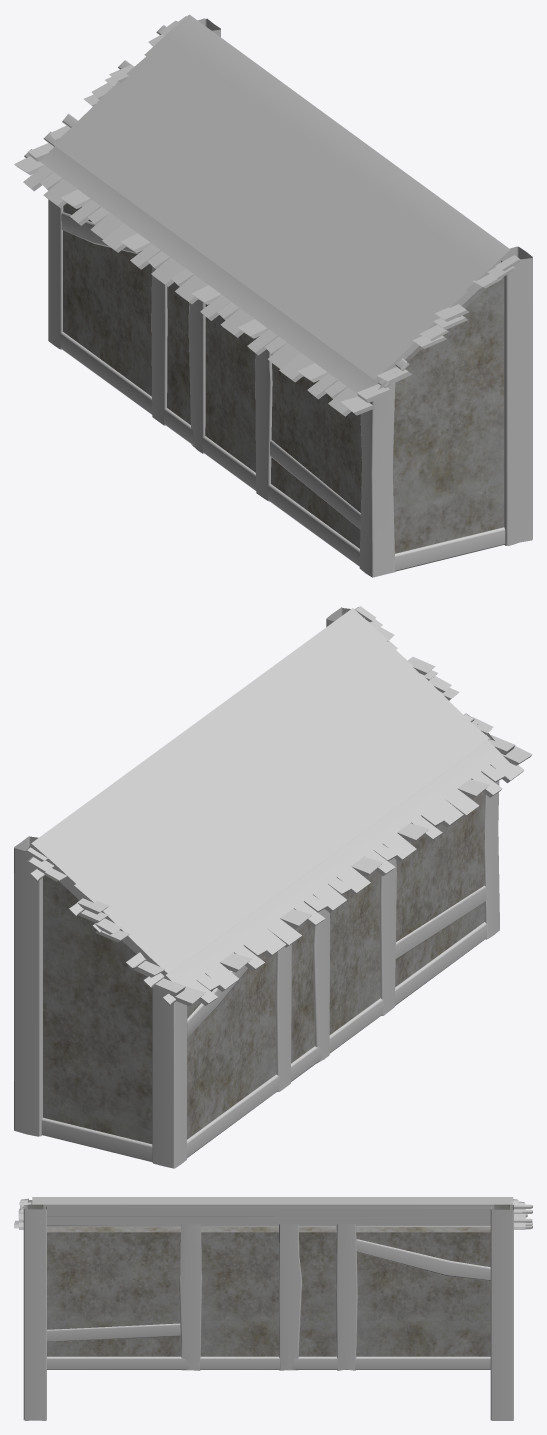
File: SM_RoofExtension01.fbx
3 views of the same model, one above another, from view 1: azimuth 30°, elevation 25°; view 2: azimuth 150°, elevation 25°; view 3: azimuth 270°, elevation 25° (orthographic). The views are drawn at different scales.
Parts seen in each view (by area): view 1: SM_RoofExtension01_LOD0; view 2: SM_RoofExtension01_LOD0; view 3: SM_RoofExtension01_LOD0.
Boxes of the visible parts, left/top/right/bottom form: SM_RoofExtension01_LOD0: left=14, top=14, right=532, bottom=577; SM_RoofExtension01_LOD0: left=14, top=606, right=532, bottom=1168; SM_RoofExtension01_LOD0: left=14, top=1197, right=532, bottom=1420.
Size of the model in its own units: 211 by 667 by 309.
